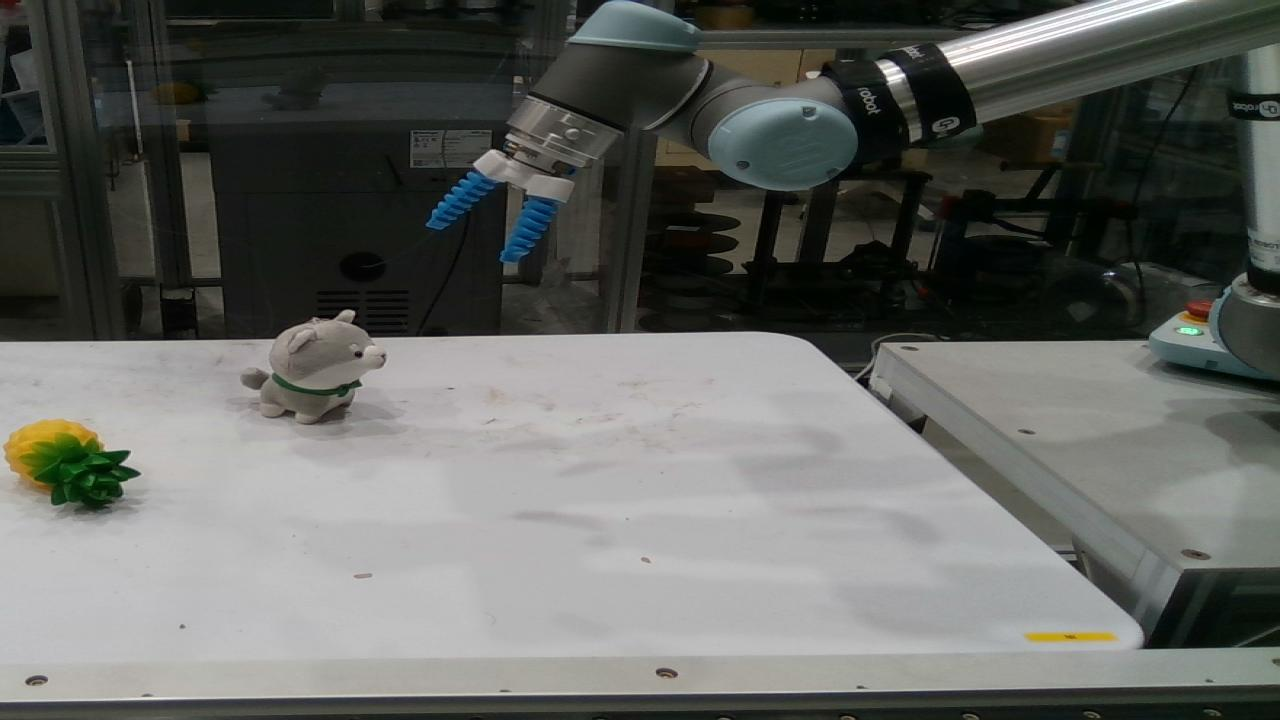UR5: (474, 0, 1272, 376)
gripper_left: (430, 172, 490, 228)
gripper_right: (504, 195, 554, 262)
target: (256, 312, 382, 422), (6, 420, 136, 507)
